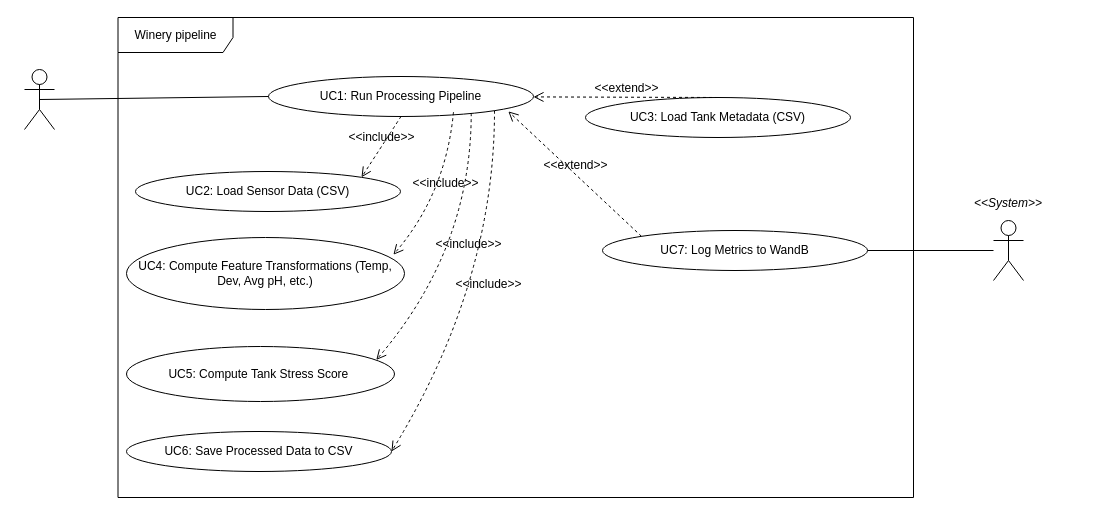
This 1103x515 diagram has some shape labels left out. Here are the shapes that lost their labels. From the top down, the box of each, then its label:
(24, 68, 54, 130): Enologo
(992, 220, 1024, 280): Weights and Biases (WandB)
